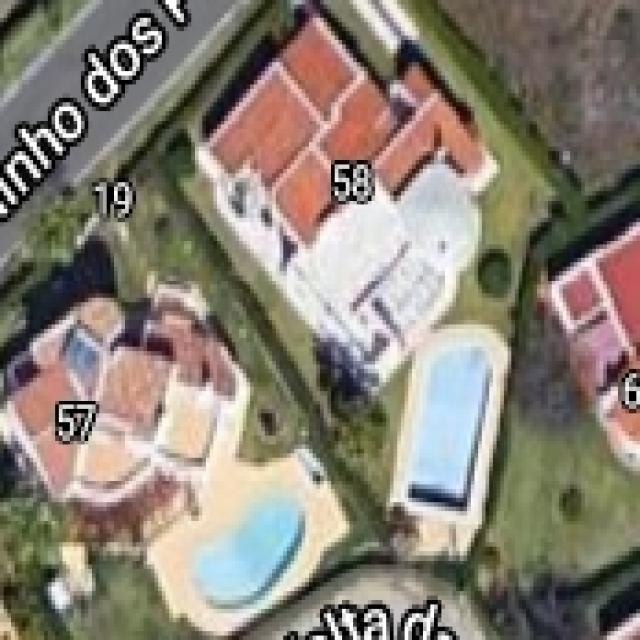pool: (384, 323, 510, 531)
